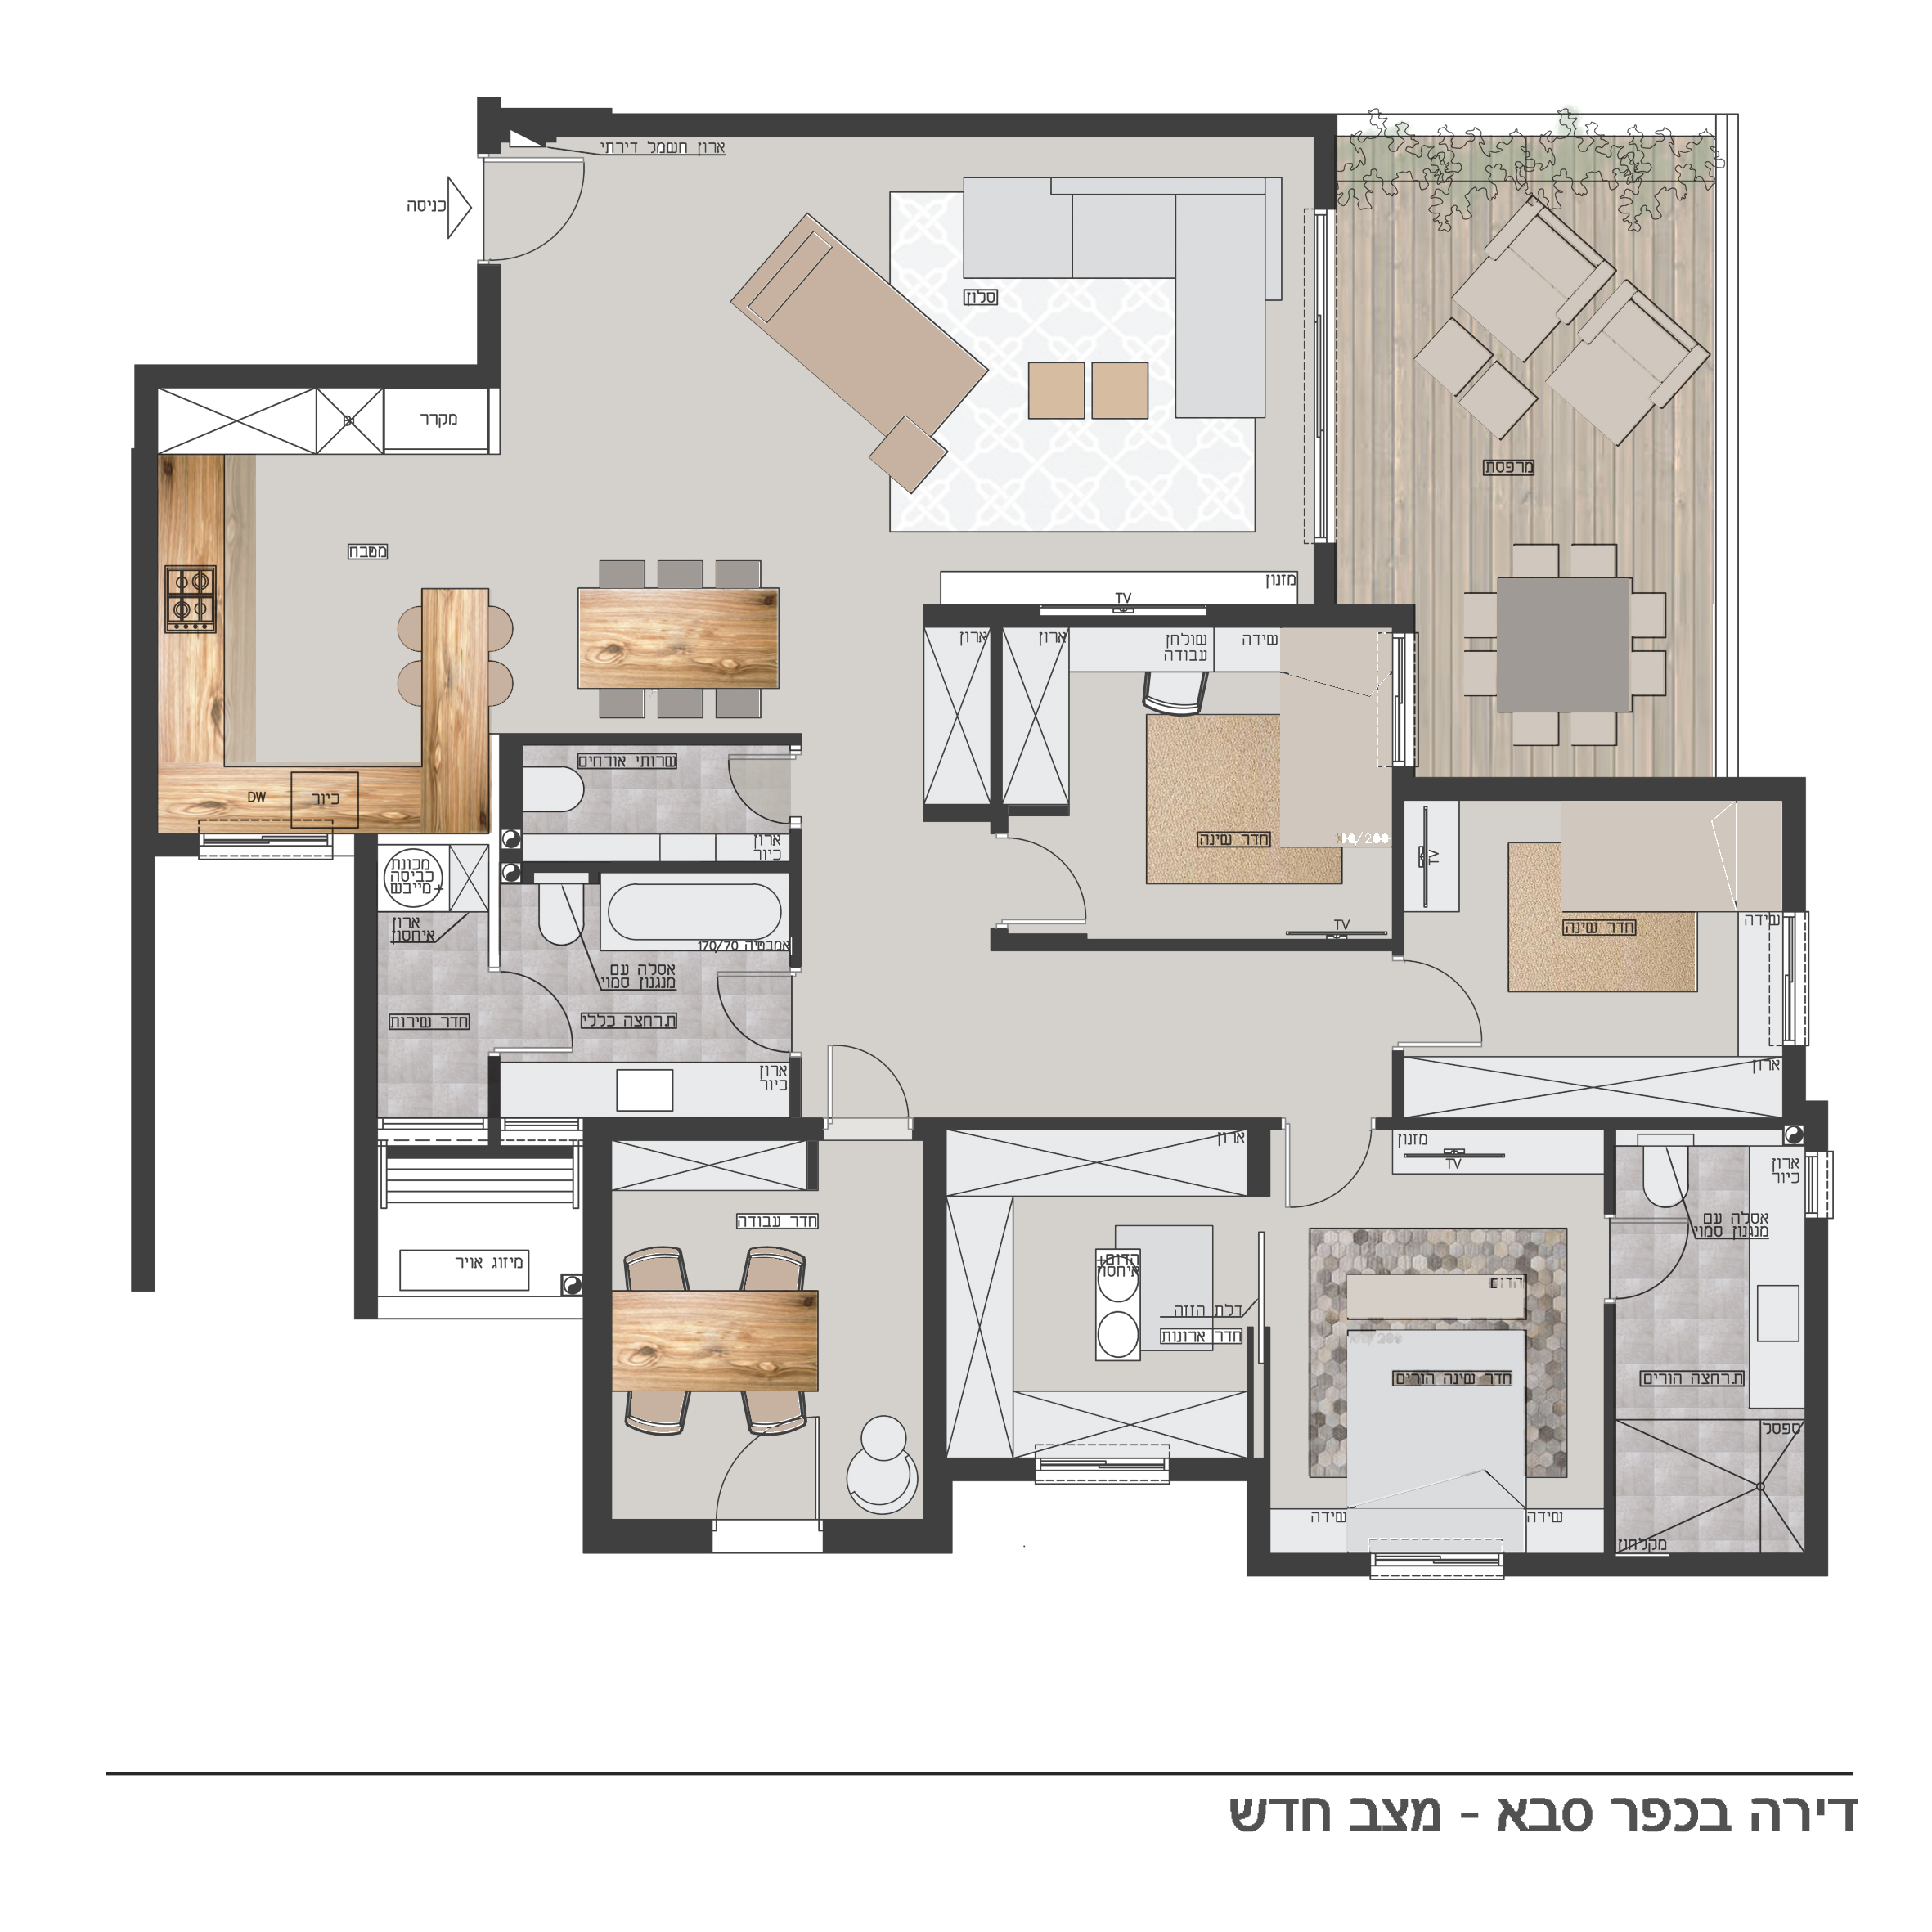door: (527, 154, 594, 271), (1414, 945, 1484, 1053), (1017, 835, 1092, 931), (819, 1035, 922, 1102), (1281, 1141, 1375, 1214), (706, 957, 775, 1042), (515, 968, 577, 1060), (722, 745, 771, 817)
wall: (133, 363, 152, 1293), (610, 113, 1336, 138), (354, 835, 379, 1323), (924, 1122, 948, 1559), (584, 1122, 609, 1548), (1401, 778, 1803, 801), (136, 363, 501, 382), (1806, 1221, 1826, 1559), (1507, 1555, 1831, 1575), (824, 1520, 945, 1553), (1780, 777, 1810, 909), (600, 1518, 717, 1552), (1605, 1302, 1617, 1552), (478, 264, 499, 375), (1168, 1456, 1270, 1479), (1392, 768, 1405, 948)
window: (1313, 207, 1336, 543), (1780, 916, 1796, 1047), (1392, 633, 1408, 763), (1035, 1458, 1168, 1470), (1801, 1150, 1819, 1217), (1373, 1557, 1500, 1566), (380, 1120, 485, 1129), (499, 1120, 580, 1129)
